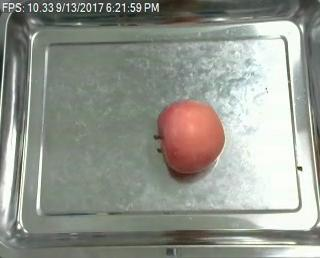apple: (155, 99, 226, 174)
